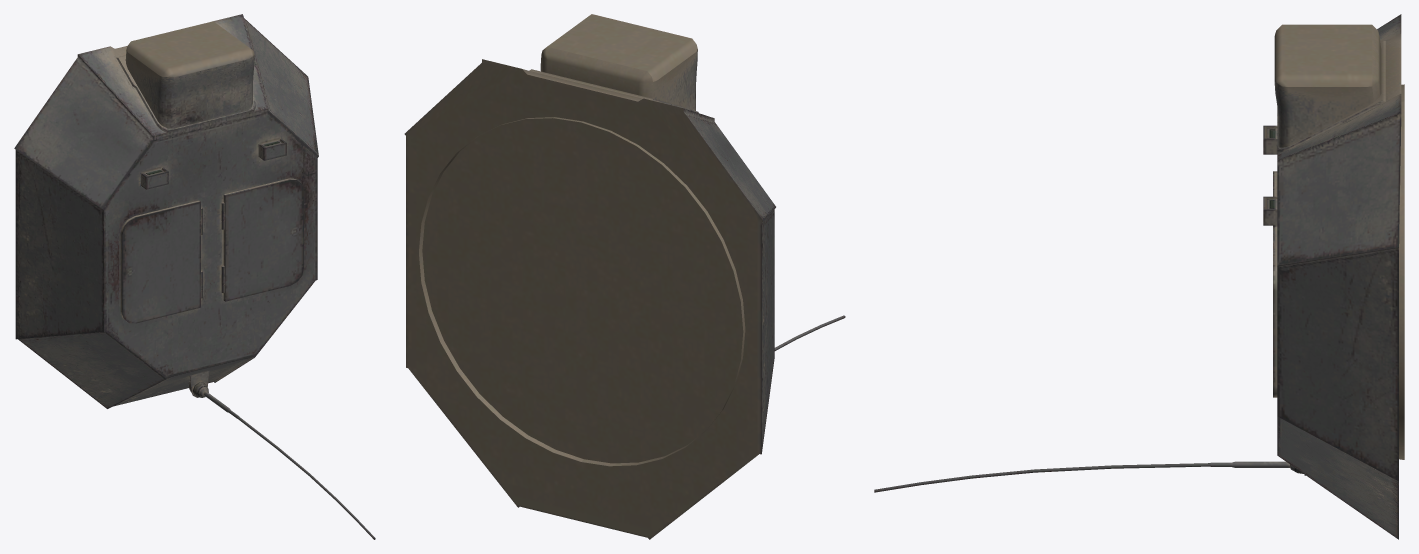
File: Turret_01.glb
3 renders of one model, left to right at view 1: azimuth 30°, elevation 25°; view 2: azimuth 150°, elevation 25°; view 3: azimuth 270°, elevation 25°, orthographic. The views are drawn at different scales.
Parts seen in each view (by area): view 1: set_0_group_0; view 2: set_0_group_0; view 3: set_0_group_0.
Part boxes in pixels (x1,y1,x2,y2): set_0_group_0: (14, 14, 375, 539); set_0_group_0: (404, 14, 845, 539); set_0_group_0: (874, 14, 1404, 539).
Bounding box in the file's own units: 1.83 × 2.22 × 2.33.
Materials: 1 (1 with a texture image).
